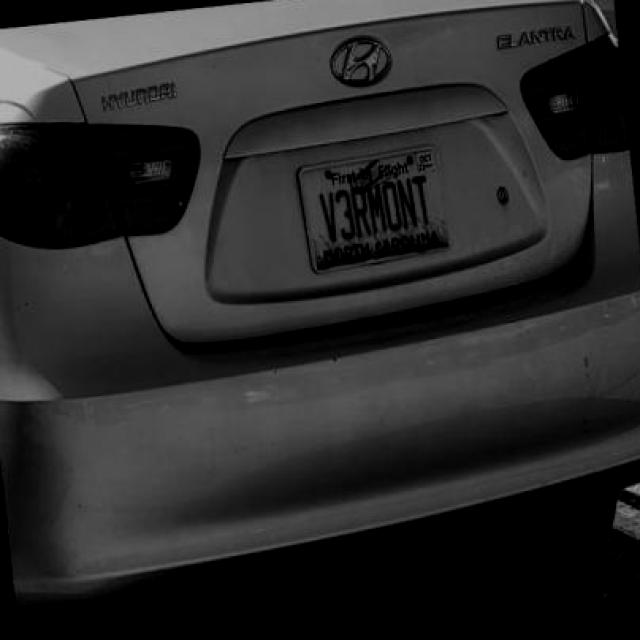licenseplate: (292, 141, 455, 273)
